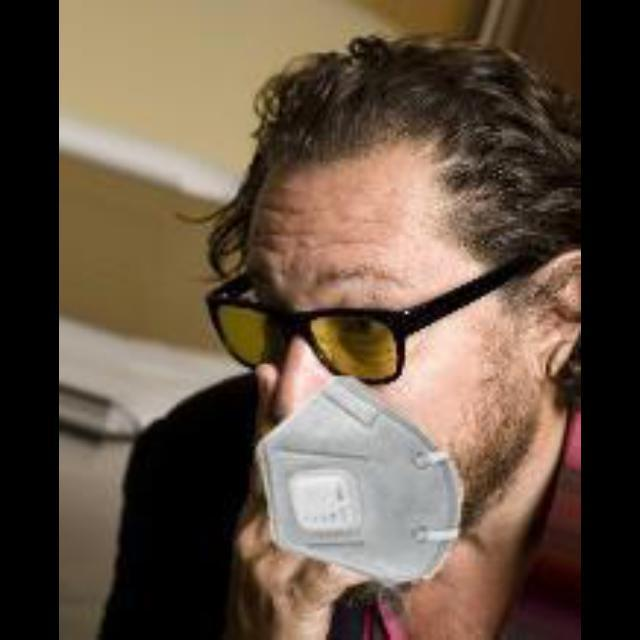suspicion: (138, 32, 562, 552)
